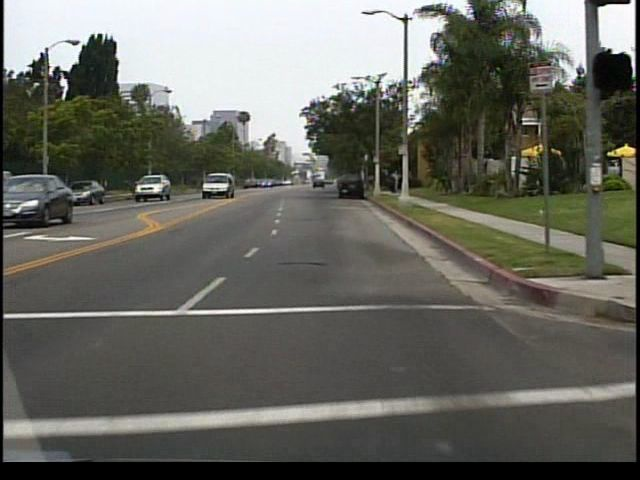person: (391, 170, 404, 196), (389, 173, 395, 193)
